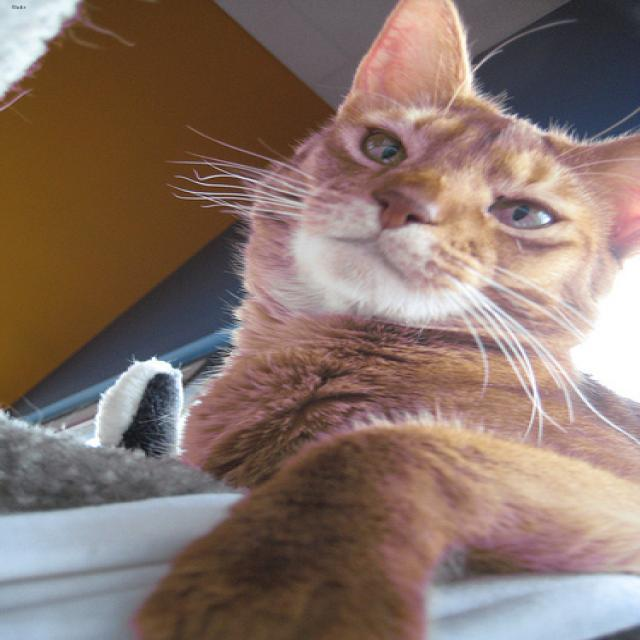Abyssinian: (236, 3, 640, 349)
